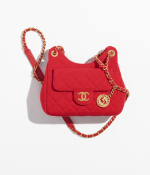channel: (34, 39, 138, 142), (75, 88, 97, 105)
